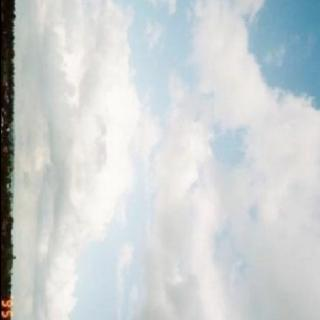Stratocumulus: (13, 0, 320, 320)
